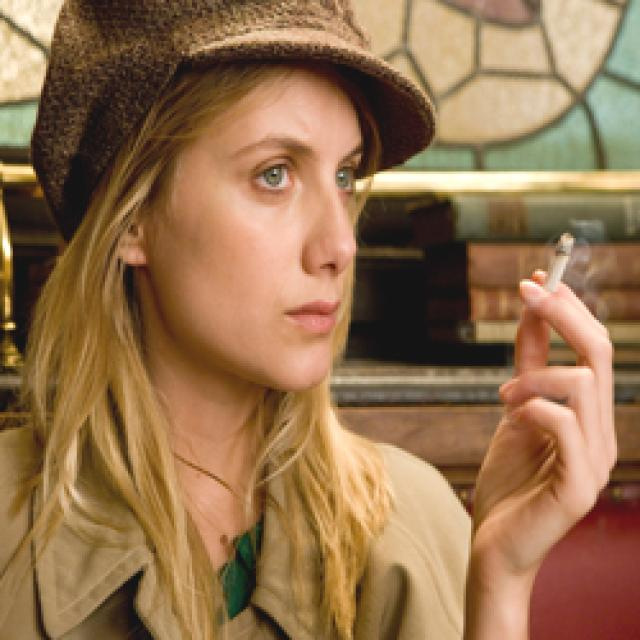Smooking: (536, 224, 576, 326)
